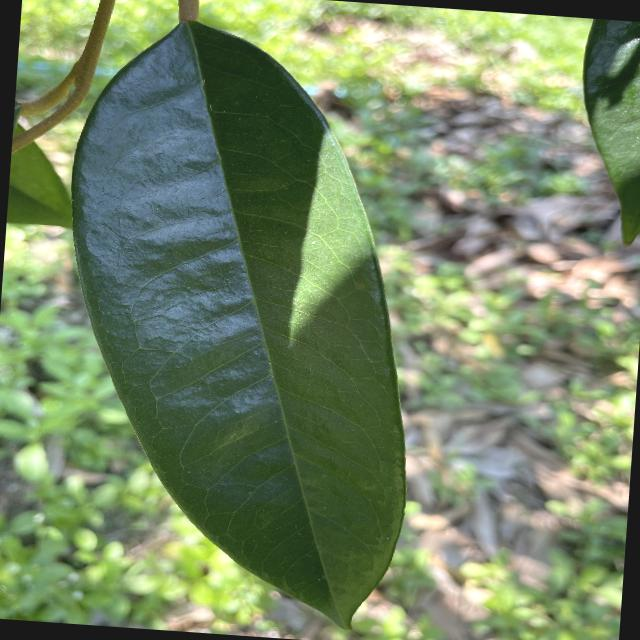No Disease: (24, 0, 452, 636)
